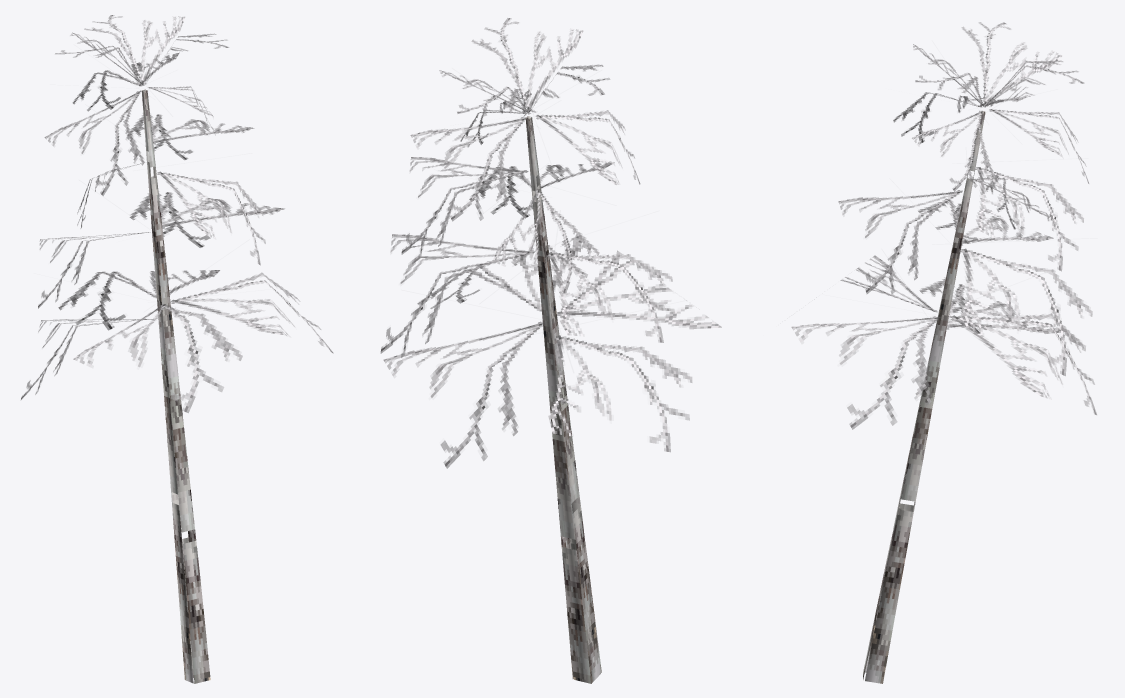
The model's file is Environment - Vegetation - Tree Burned Stump - PTPine03_s2.glb.
The picture shows the model from 3 angles, left to right: view 1: azimuth 30°, elevation 25°; view 2: azimuth 150°, elevation 25°; view 3: azimuth 270°, elevation 25°; orthographic projection. The views are drawn at different scales.
Parts seen in each view (by area): view 1: PTPINE03_S2; view 2: PTPINE03_S2; view 3: PTPINE03_S2.
Part boxes in pixels (x1,y1,x2,y2): PTPINE03_S2: [21, 15, 333, 683]; PTPINE03_S2: [380, 18, 721, 683]; PTPINE03_S2: [791, 22, 1096, 683].
Bounding box in the file's own units: 19.35 × 39.21 × 20.25.
1 material, 1 textured.
